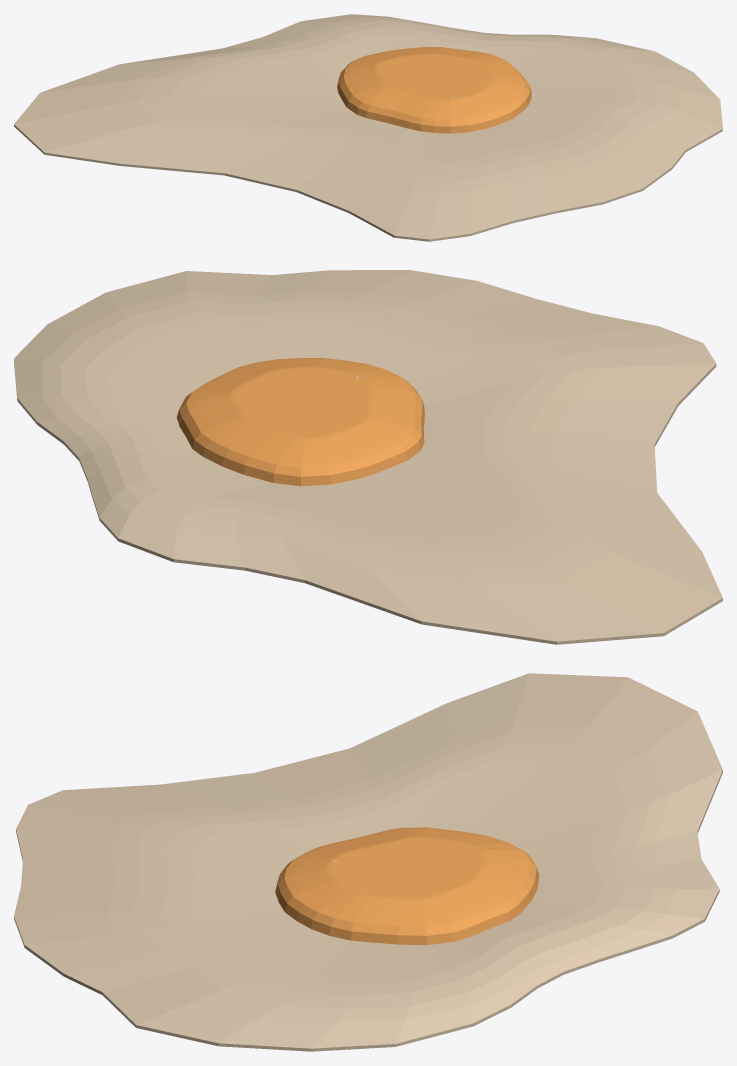
File: egg2.fbx
The picture shows the model from 3 angles, top to bottom: view 1: azimuth 30°, elevation 25°; view 2: azimuth 150°, elevation 25°; view 3: azimuth 270°, elevation 25°; orthographic projection. The views are drawn at different scales.
Visible parts, largest first — view 1: Circle; view 2: Circle; view 3: Circle.
Boxes of the visible parts, bbox=[...] form: Circle: bbox=[14, 14, 722, 241]; Circle: bbox=[14, 270, 722, 644]; Circle: bbox=[14, 673, 722, 1051].
Bounding box in the file's own units: 395 × 18.07 × 315.
